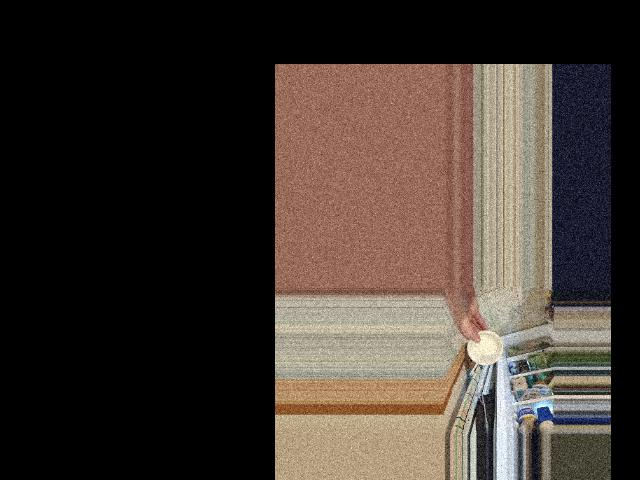cotage: (469, 334, 501, 365)
